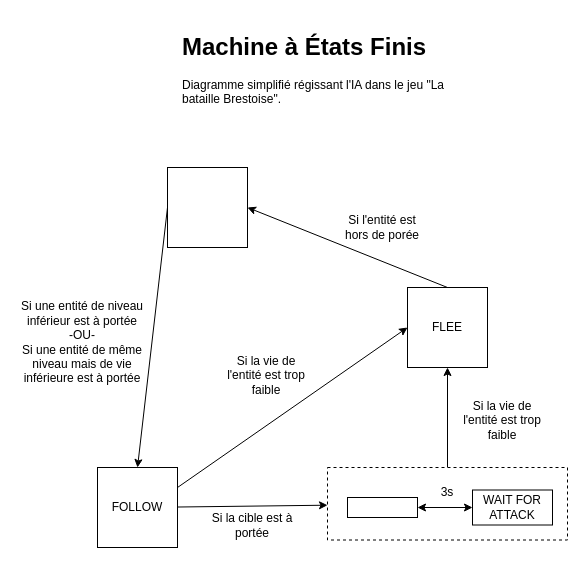
Some shapes in this 585 by 565 pixel diagram are drawn without their labels. The shapes that lost their labels are listed below. From the top down, each one's centre as x and y in pixels, then its label:
(207,207): IDLE
(382,507): ATTACK
